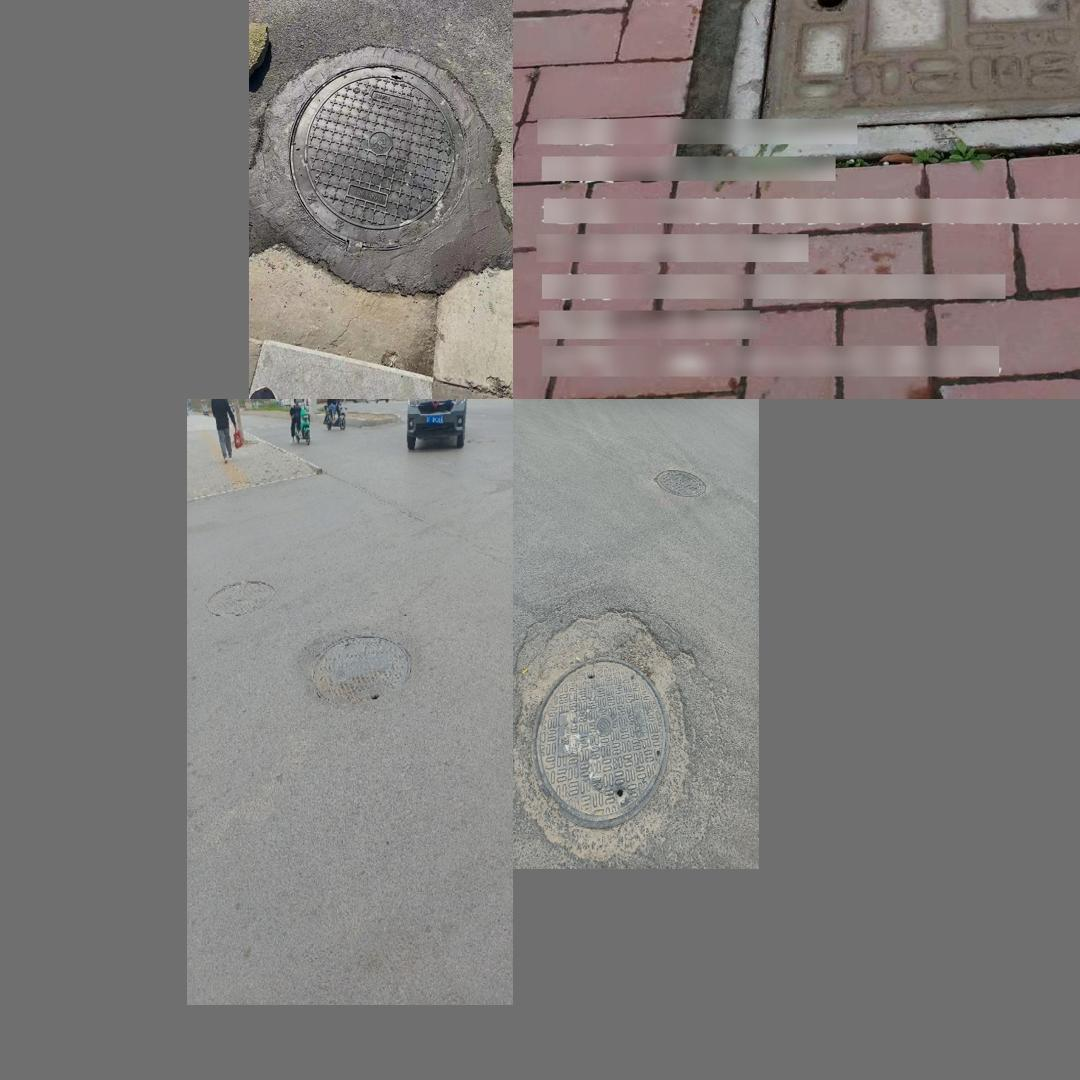good: (261, 31, 504, 292), (767, 0, 1080, 125), (530, 656, 669, 828), (311, 634, 411, 701), (205, 579, 274, 615), (652, 468, 706, 498)
